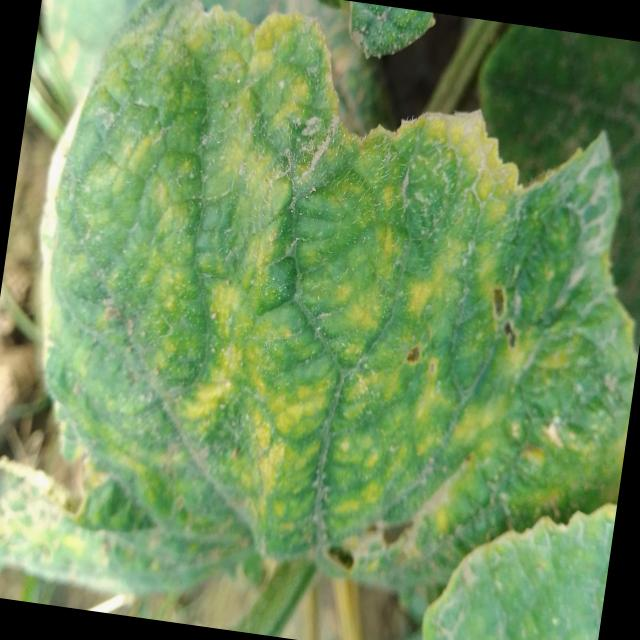cucumber_downy: (0, 0, 507, 586), (448, 137, 640, 534)
